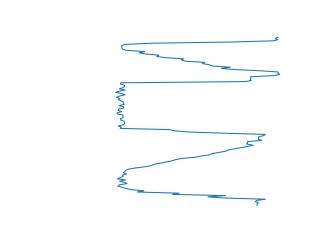distributaryChannelFill: (112, 71, 267, 143)
mouthBar: (115, 35, 284, 76)
underwaterDistributaryChannel: (114, 138, 267, 208)
